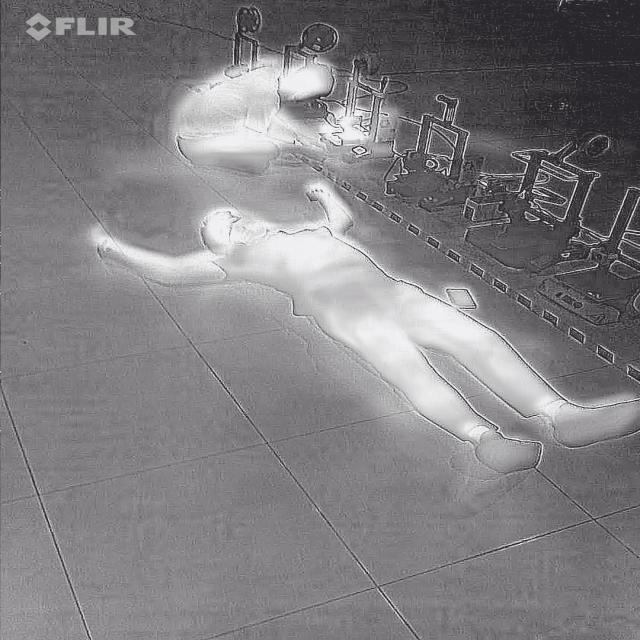Victim: (78, 178, 638, 483), (164, 54, 349, 176)
